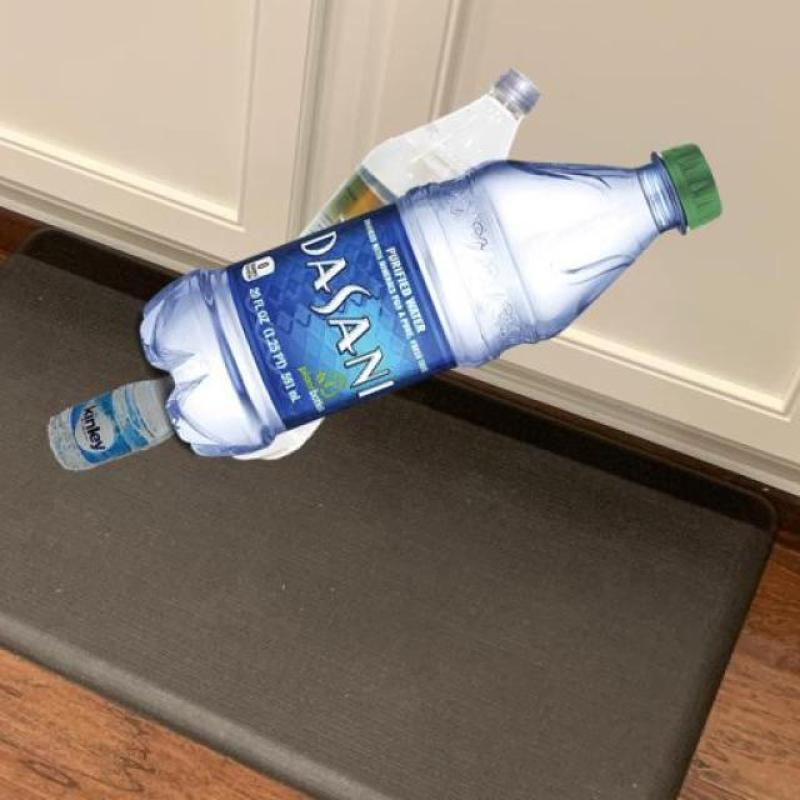botella: (135, 143, 720, 458), (232, 68, 538, 462), (47, 379, 183, 470)
